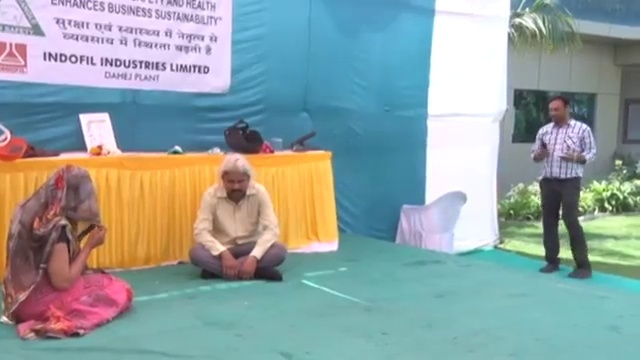helmet_off: (51, 164, 94, 209), (218, 154, 251, 201), (547, 96, 572, 128)
person: (1, 164, 132, 342), (188, 154, 287, 280), (532, 95, 596, 278)
